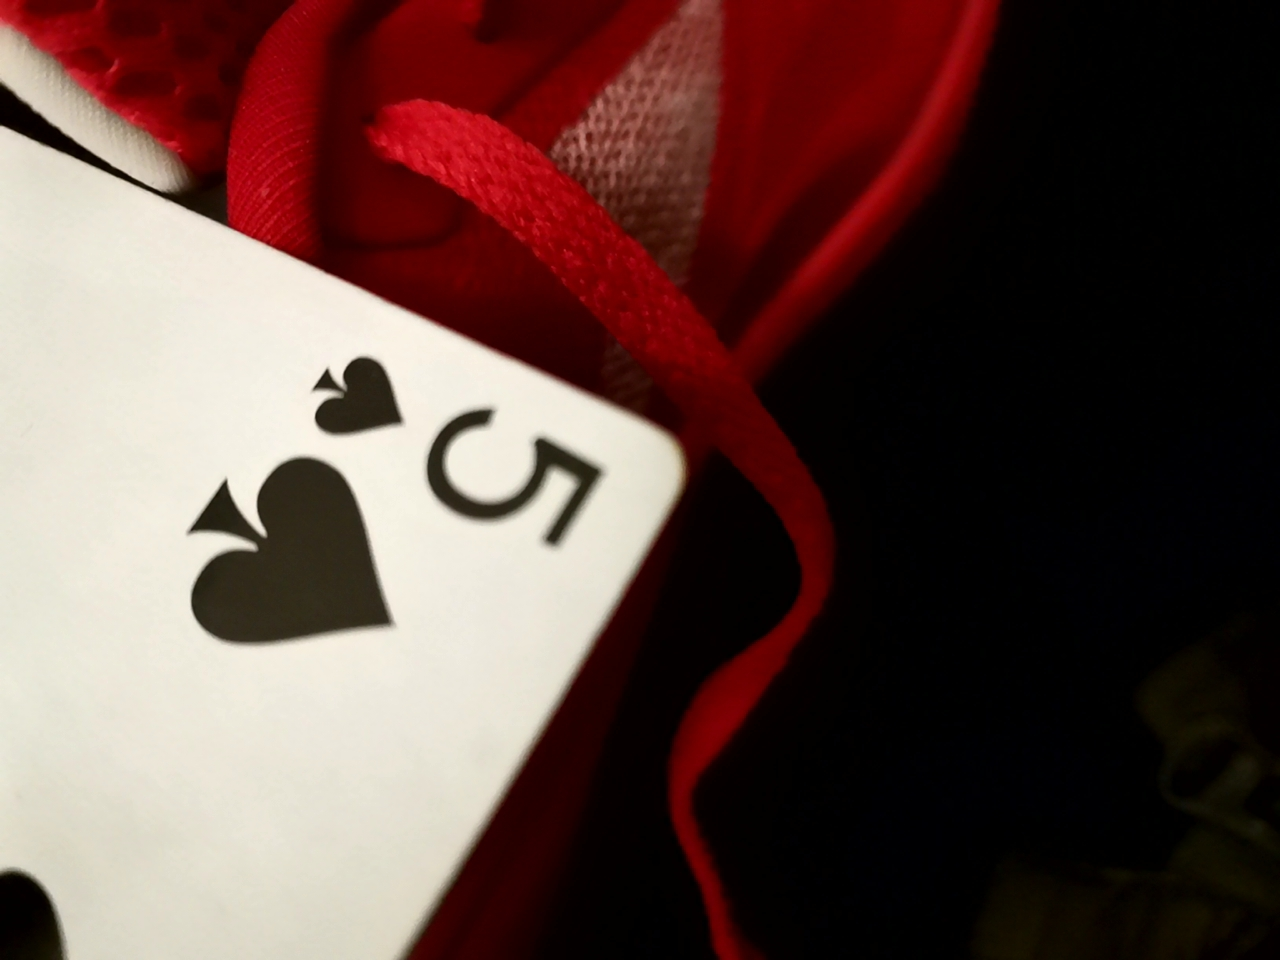ht 5: (0, 20, 714, 955)
